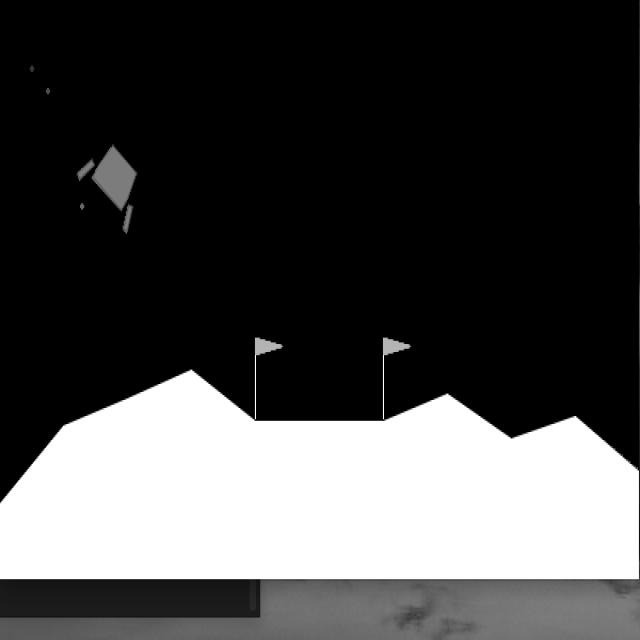lander: (73, 142, 165, 236)
landing_point: (254, 336, 386, 424)
